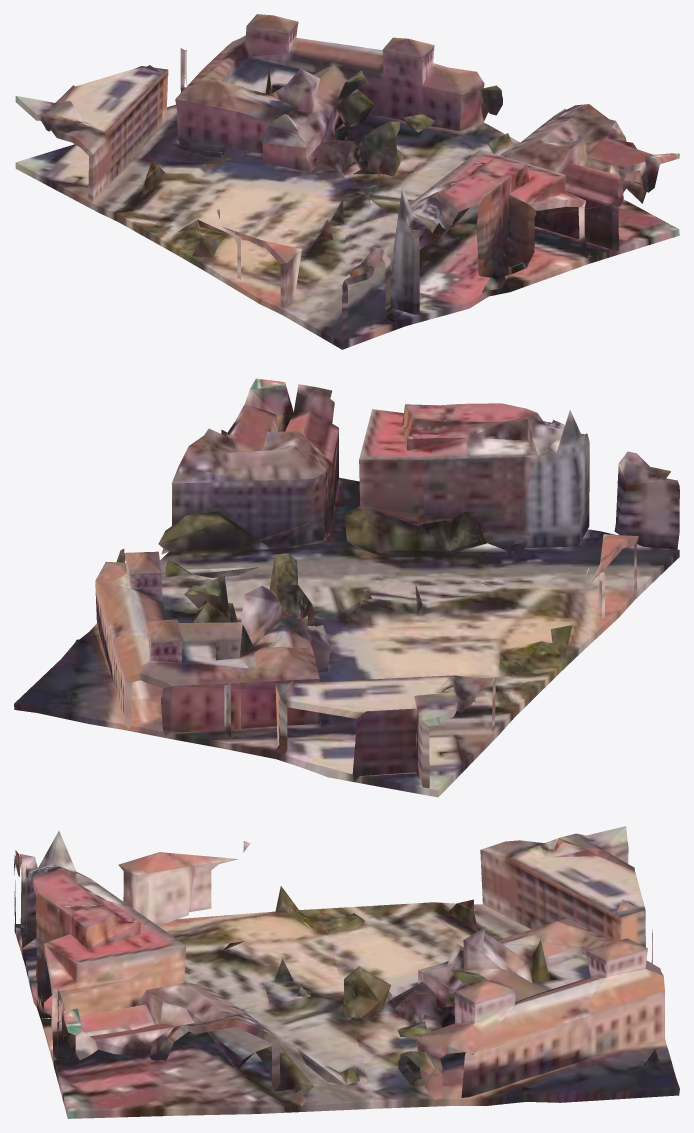
The picture shows the model from 3 angles, top to bottom: view 1: azimuth 30°, elevation 25°; view 2: azimuth 150°, elevation 25°; view 3: azimuth 270°, elevation 25°; orthographic projection. The views are drawn at different scales.
Parts seen in each view (by area): view 1: Mesh_0; view 2: Mesh_0; view 3: Mesh_0.
Boxes of the visible parts, x1,y1,x2,y2 form: Mesh_0: (15, 14, 679, 349); Mesh_0: (14, 378, 679, 797); Mesh_0: (14, 826, 679, 1118).
Bounding box in the file's own units: 134 × 41.24 × 165.
Materials: 2 (2 with a texture image).
